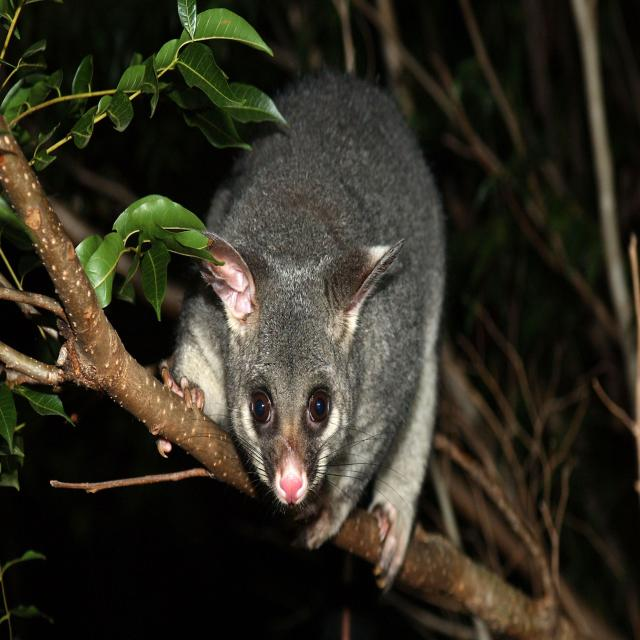Possum: (163, 71, 445, 587)
